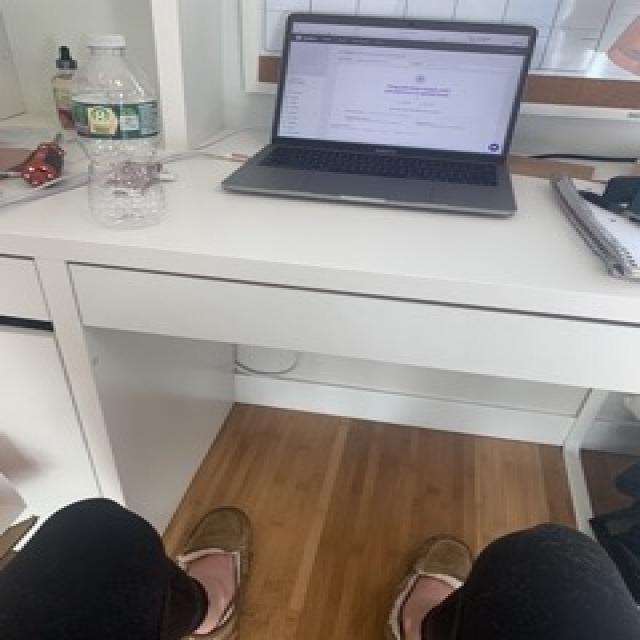water_bottle: (64, 31, 173, 234)
